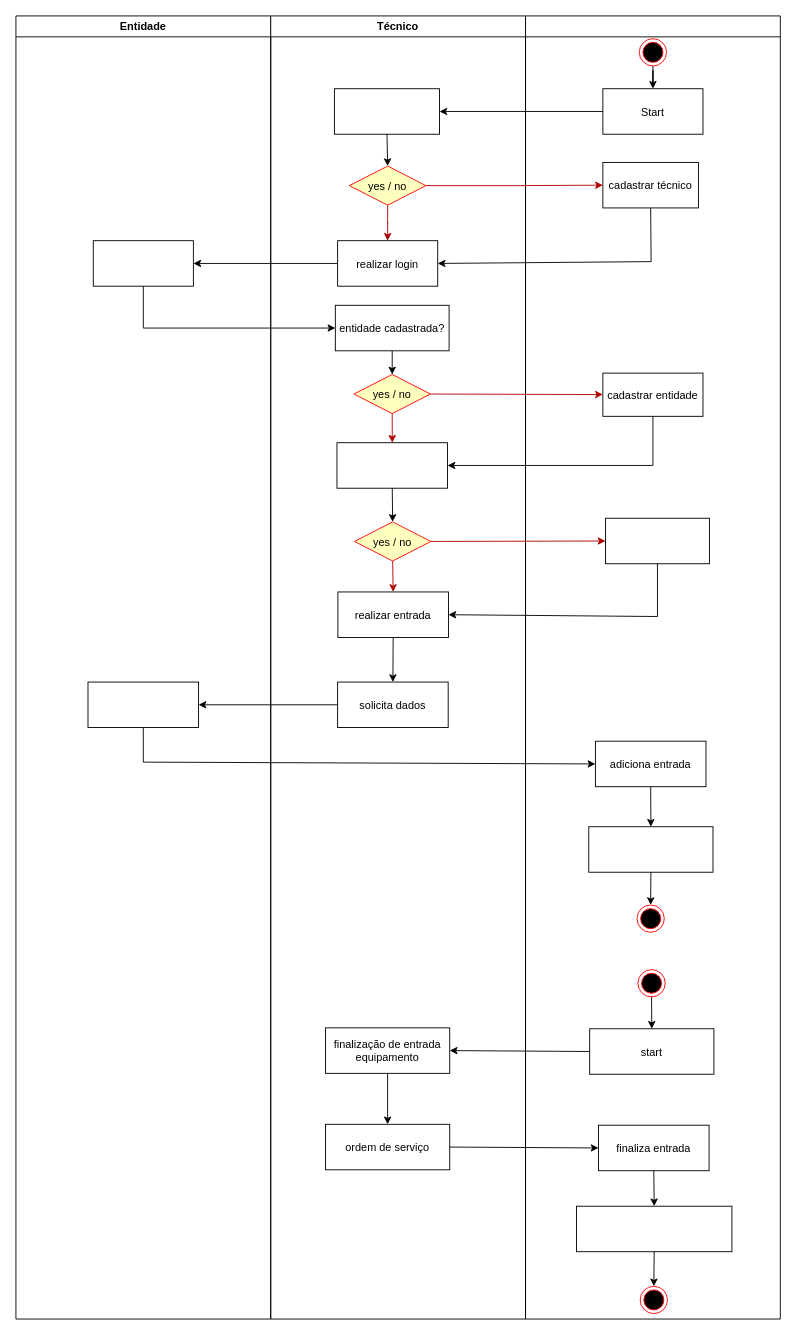
Image size: 796x1337. Some labels were removed from this diagram. Each missing label, with the box of its shape:
cadastrar máquina: (605, 517, 709, 564)
fornece os dados solicitados: (87, 681, 199, 728)
gera documento de entrada para assinatura: (588, 826, 713, 872)
gera documento de finalização de entrada de equipamento: (576, 1205, 732, 1252)
máquina cadastrada?: (336, 442, 448, 488)
Sistema: (525, 15, 780, 1319)
Solicita a entrada de equipamento: (92, 240, 193, 286)
técnico cadastrado?: (334, 88, 440, 134)
